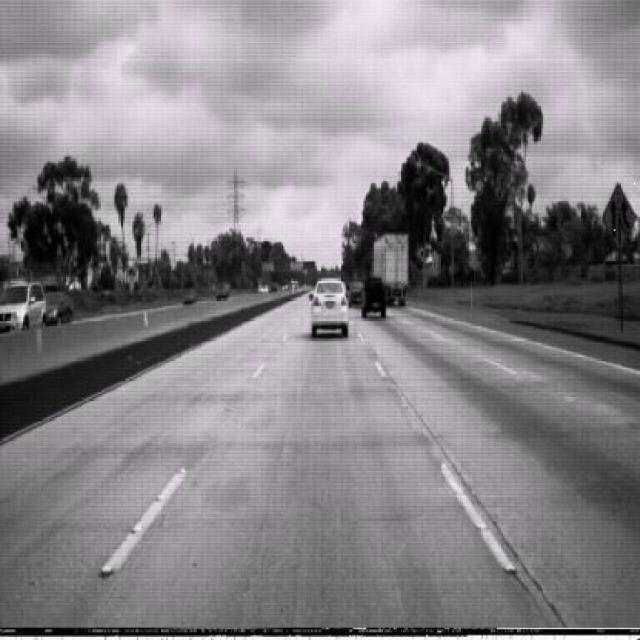addedLane: (600, 182, 636, 252)
